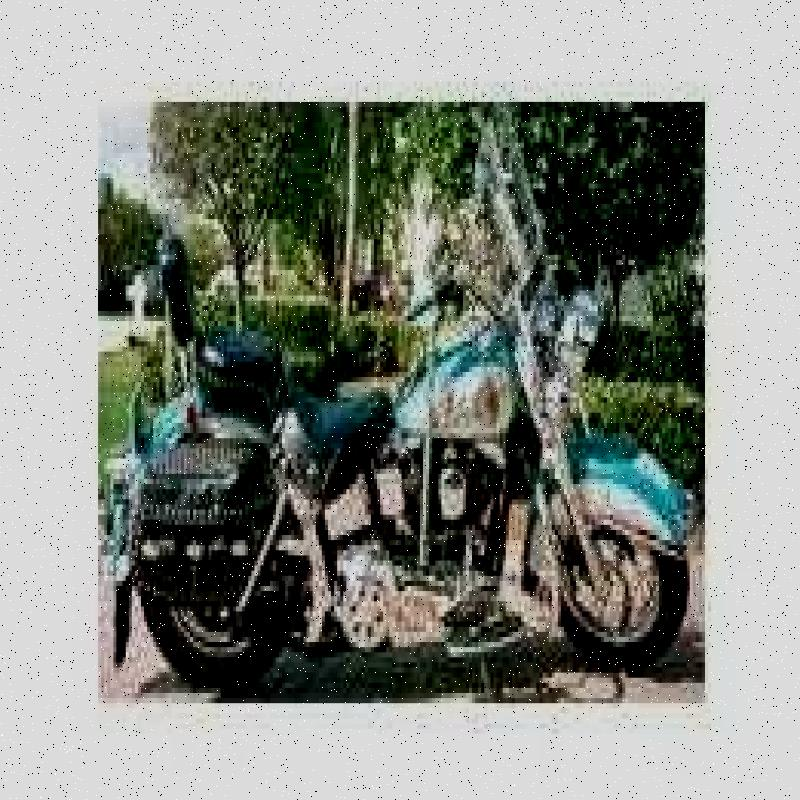bike: (144, 157, 686, 662)
